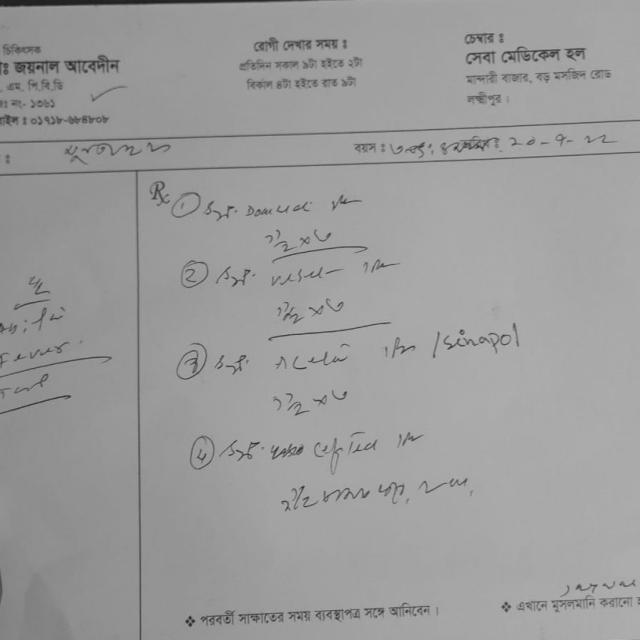Acelex: (268, 353, 353, 377)
Ceftax: (309, 428, 382, 469)
Viset: (256, 266, 336, 287)
